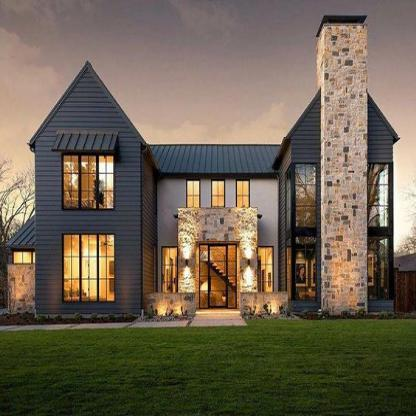Building Outline: (4, 14, 401, 320)
Deco: (184, 295, 193, 302)
Door: (209, 245, 227, 308)
Facade: (4, 15, 401, 321)
Roof: (26, 59, 321, 180), (367, 92, 401, 145), (51, 130, 119, 152), (4, 213, 35, 248)
Window: (64, 235, 115, 302), (64, 156, 114, 209), (368, 238, 390, 300), (368, 164, 390, 226), (295, 165, 316, 227), (296, 237, 316, 300), (258, 247, 273, 293), (162, 247, 177, 293), (200, 245, 208, 308), (228, 245, 236, 308), (187, 181, 200, 210), (237, 181, 249, 210), (212, 181, 224, 210), (14, 251, 42, 263), (286, 167, 291, 232), (286, 238, 291, 300)
